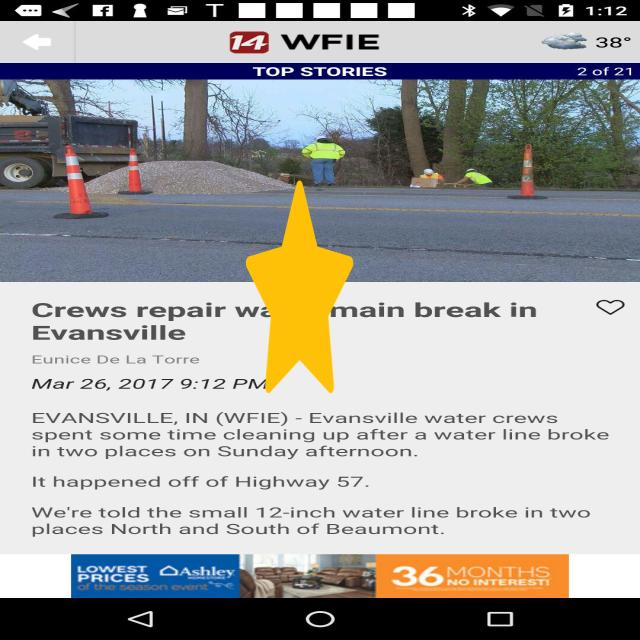forced continuity: (246, 180, 353, 394)
